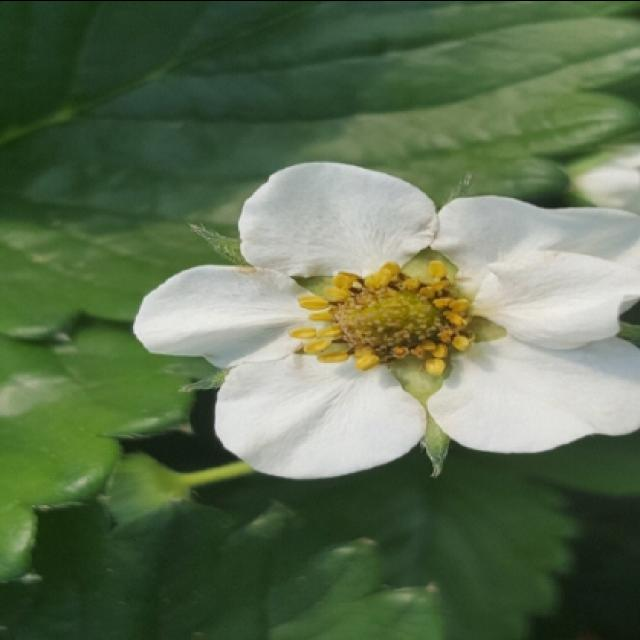Blossom Blight: (285, 253, 477, 383)
